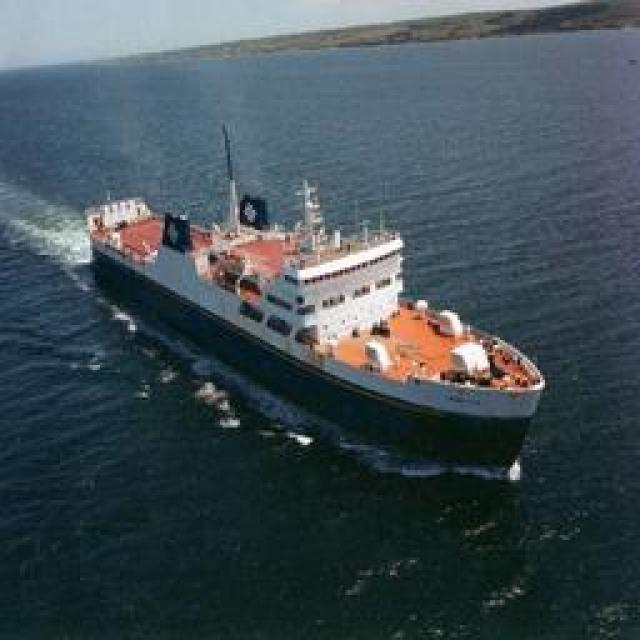CIV_Ship: (86, 144, 546, 446)
